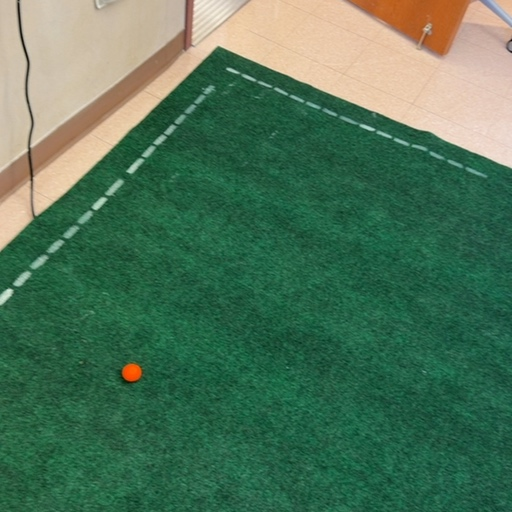Ball: (122, 363, 142, 382)
